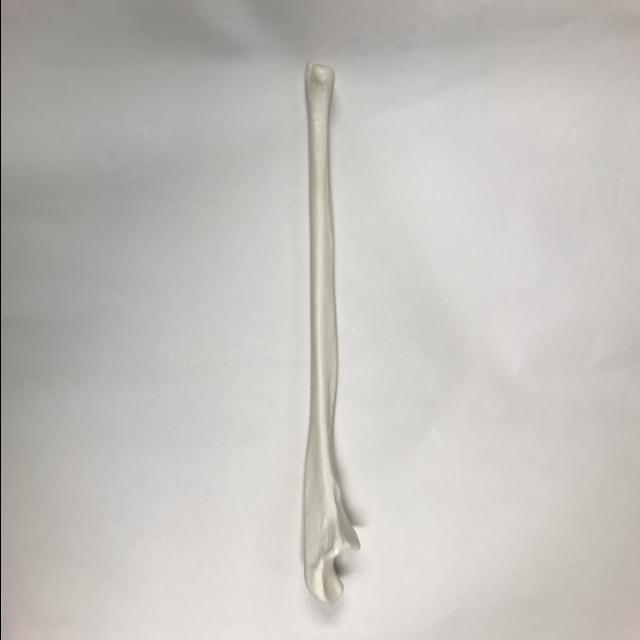bone: (294, 59, 368, 614)
